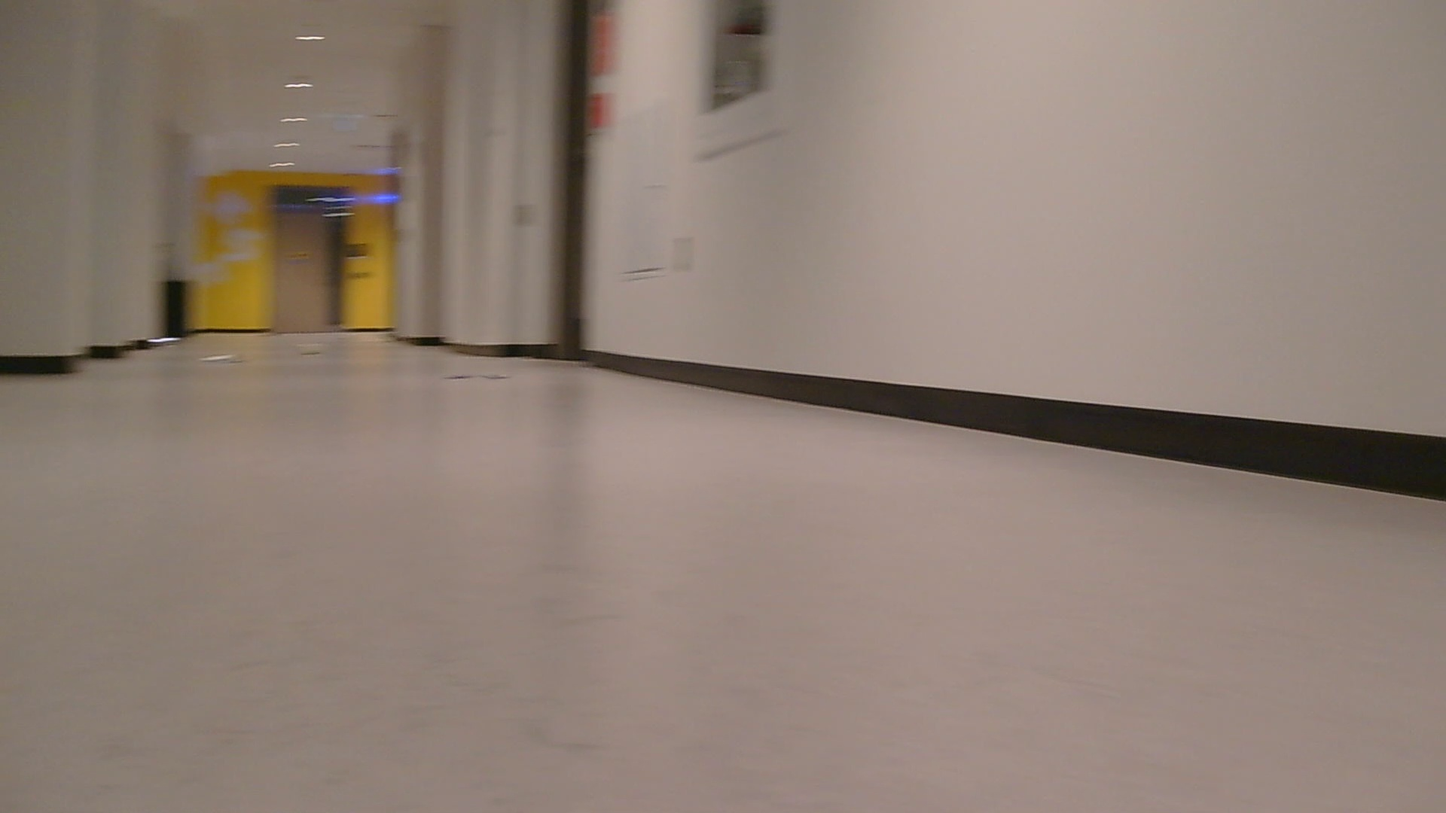carton: (434, 370, 512, 388), (206, 355, 256, 370), (300, 343, 339, 353)
